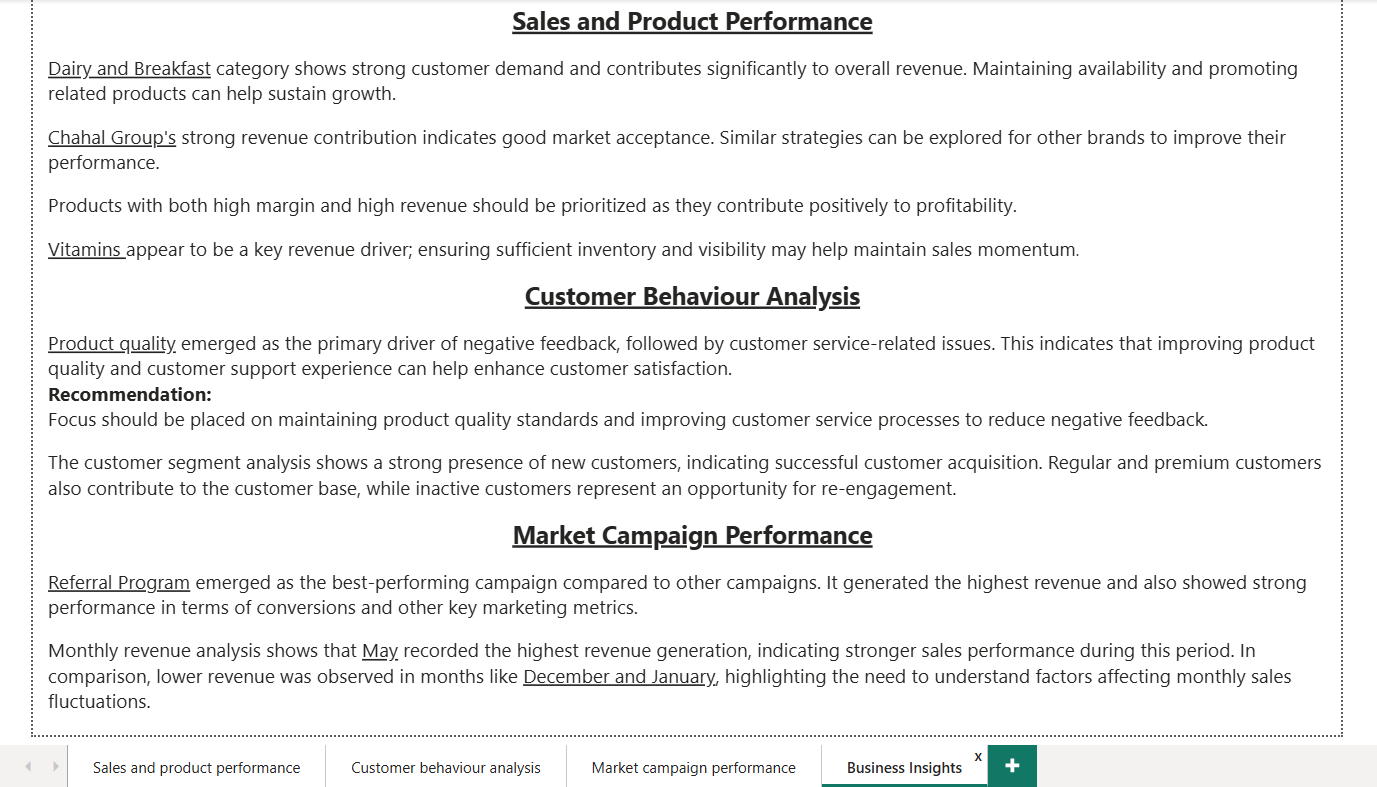

The dashboard page shown, as its layout file describes it:
{"tool":"powerbi","page":{"name":"Business Insights","canvas":[1280,720],"ordinal":3},"visuals":[{"type":"textbox","box":[9.6,0,1270.7,720.4],"z":0}]}

Visuals, with their boxes on the page's 1280x720 design canvas (x1, y1, x2, y2). These are canvas units, not pixel positions in the 1377x787 screenshot, which may show the page scaled, cropped or inside an application window:
textbox: crop(10, 0, 1280, 720)
